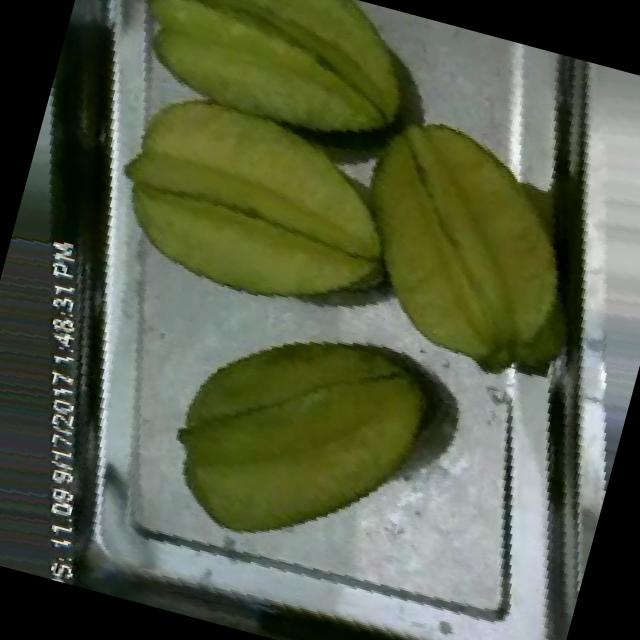fruit: (62, 37, 455, 390), (117, 268, 477, 608), (300, 78, 629, 414), (79, 0, 455, 222)
